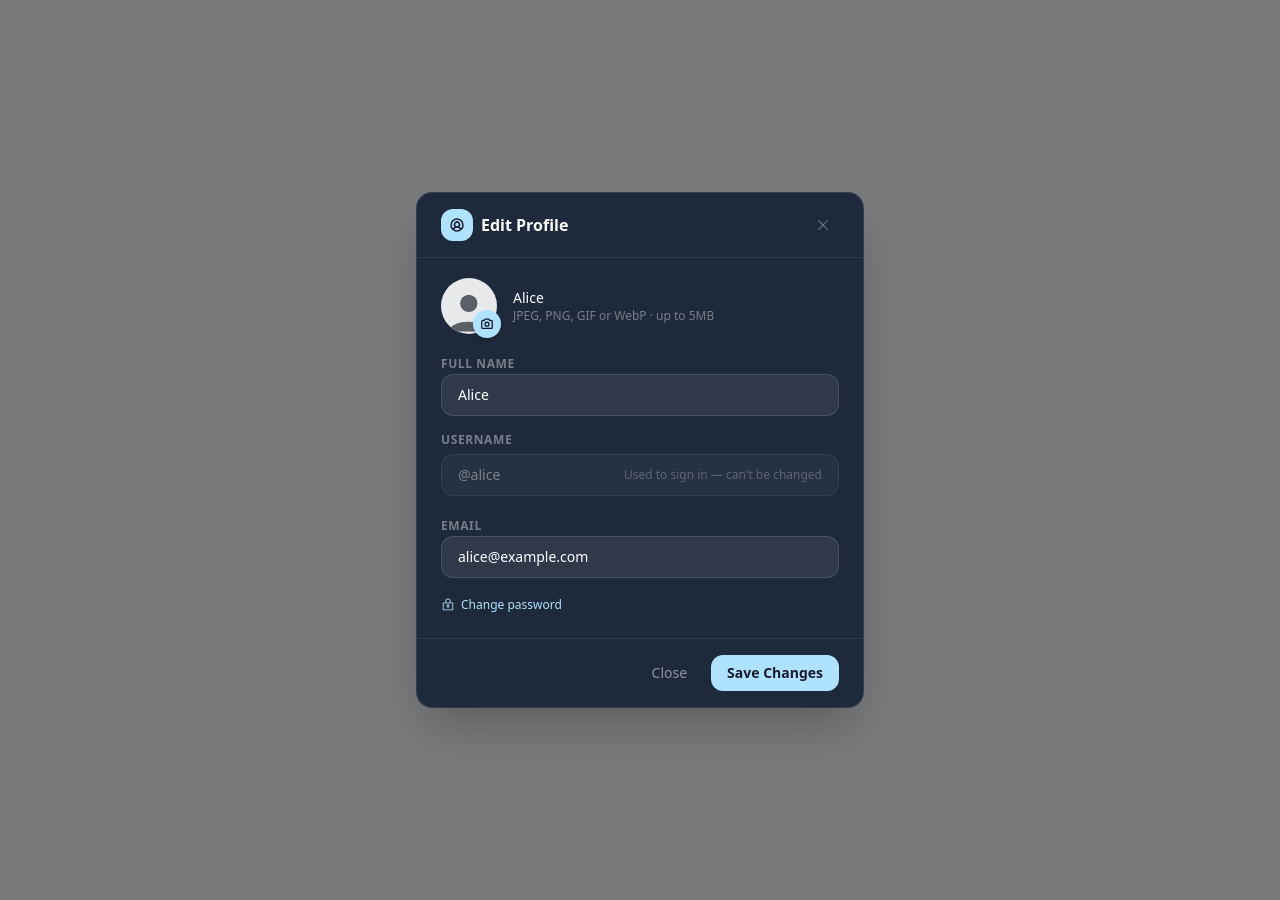
Test: password change › requires the current password and a matching confirmation
This screenshot has width=1280, height=900.
Click the button "Change password". click: (501, 605)
box: top-left (441, 597), bottom-right (562, 613)
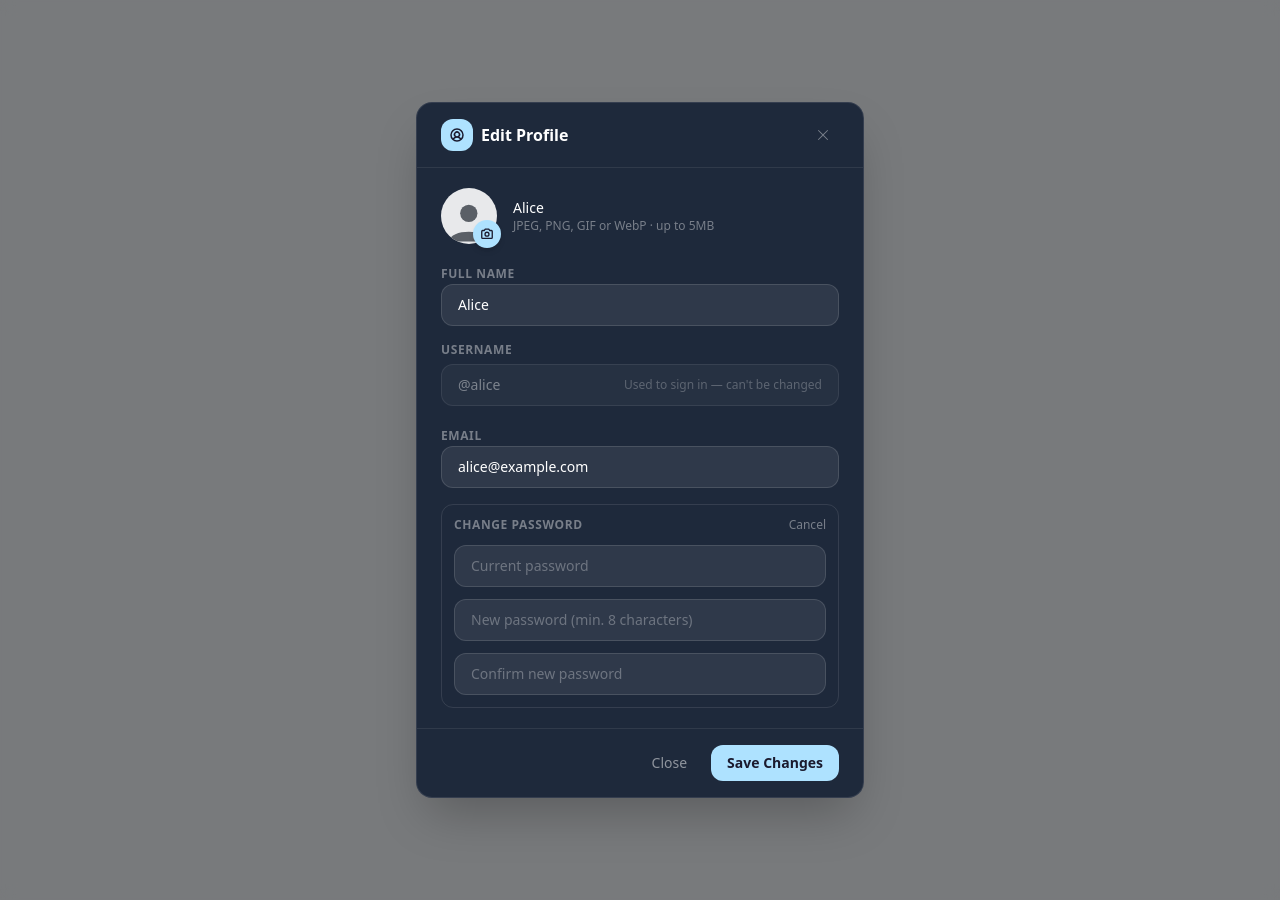
Type "newpassword1" into the password field labelled "New password". click: (640, 620)
box: top-left (454, 599), bottom-right (826, 641)
Type "newpassword1" into the password field labelled "Confirm new password". click: (640, 674)
box: top-left (454, 653), bottom-right (826, 695)
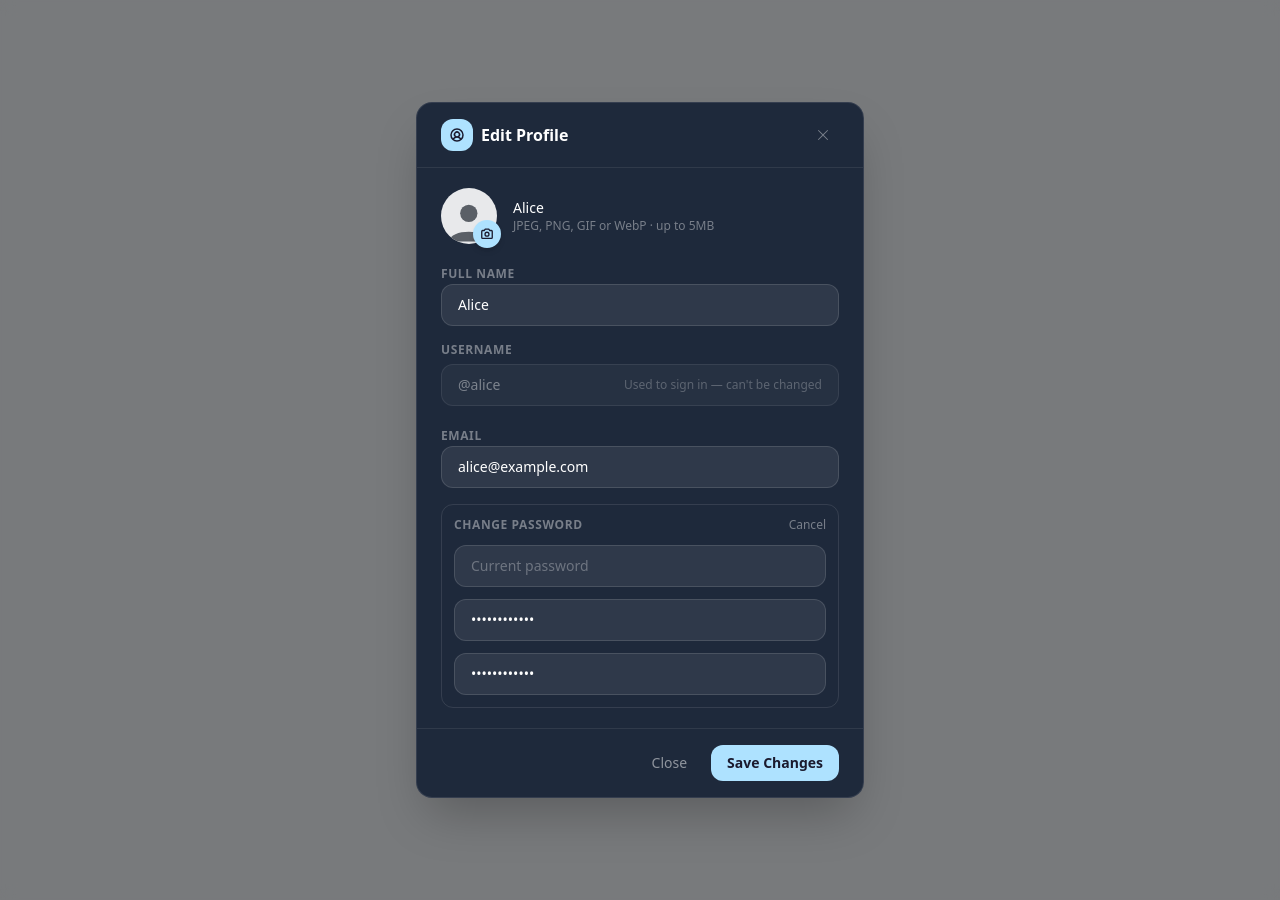
Click the button "Save Changes". click: (775, 763)
box: top-left (711, 745), bottom-right (839, 781)
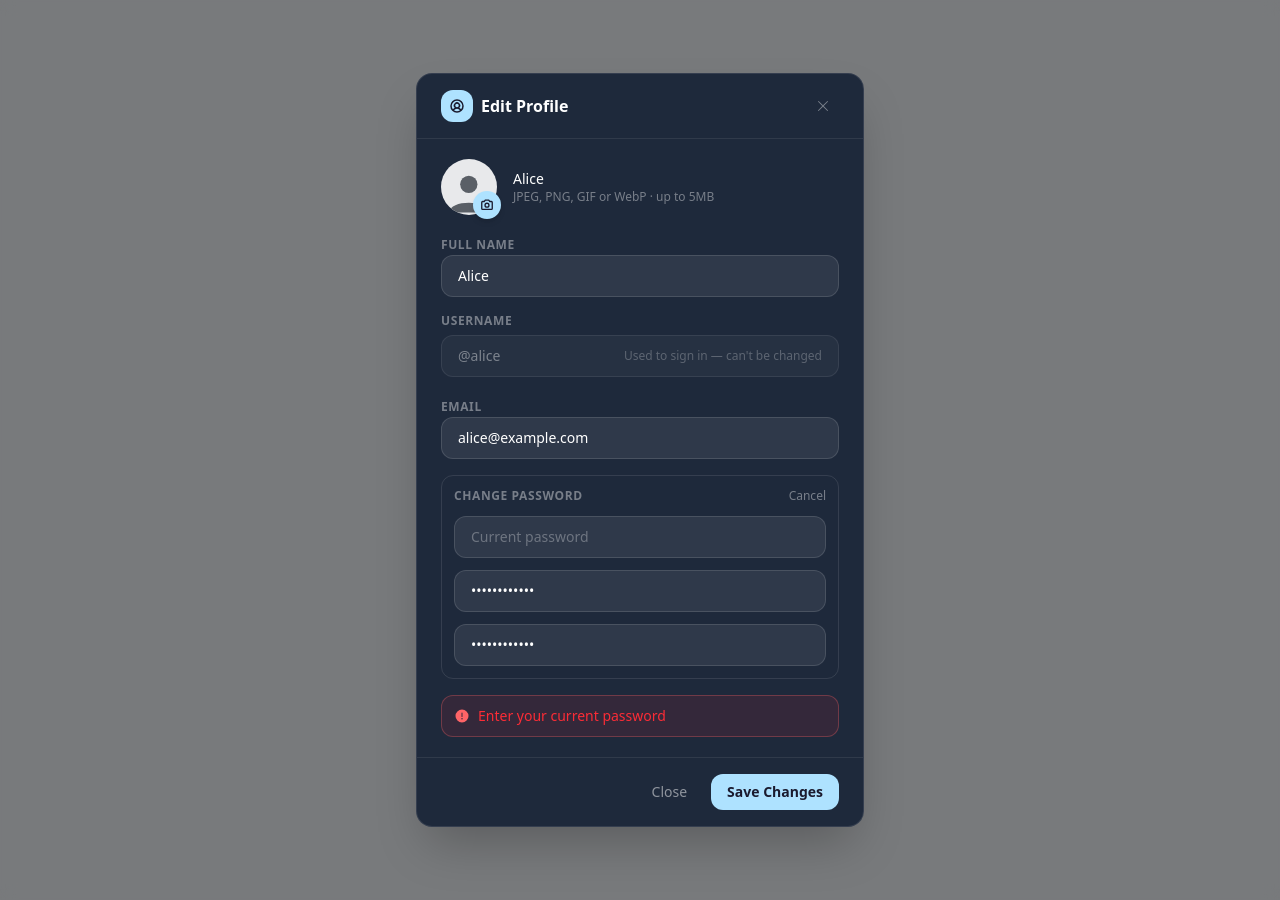
Check: the text "Enter your current password" is shown, box top-left (478, 706), bottom-right (666, 726)
Type "oldpassword1" into the password field labelled "Current password". click: (640, 537)
box: top-left (454, 516), bottom-right (826, 558)
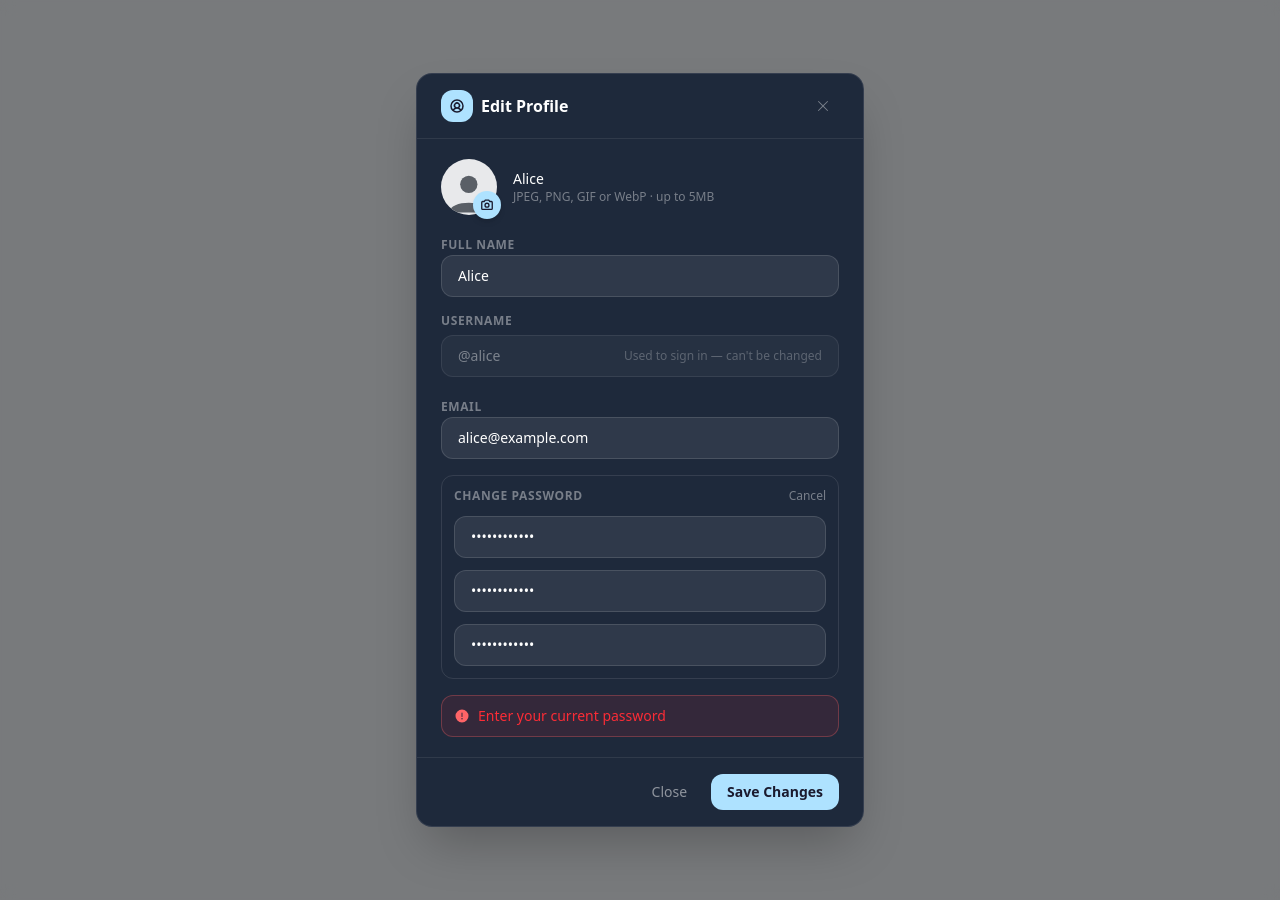
Type "mismatch1" into the password field named "Confirm new password". click: (640, 645)
box: top-left (454, 624), bottom-right (826, 666)
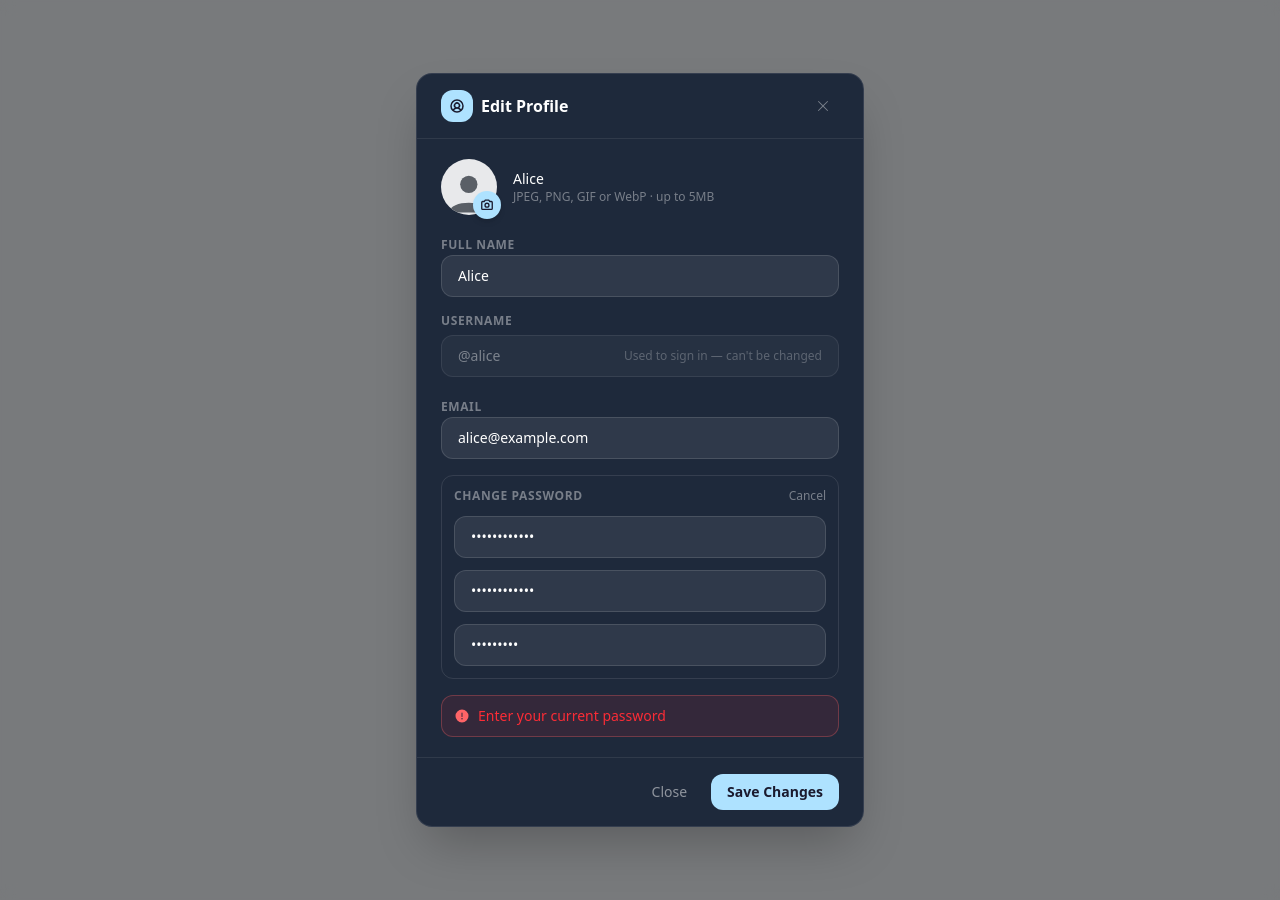
Click the button "Save Changes". click: (775, 792)
box: top-left (711, 774), bottom-right (839, 810)
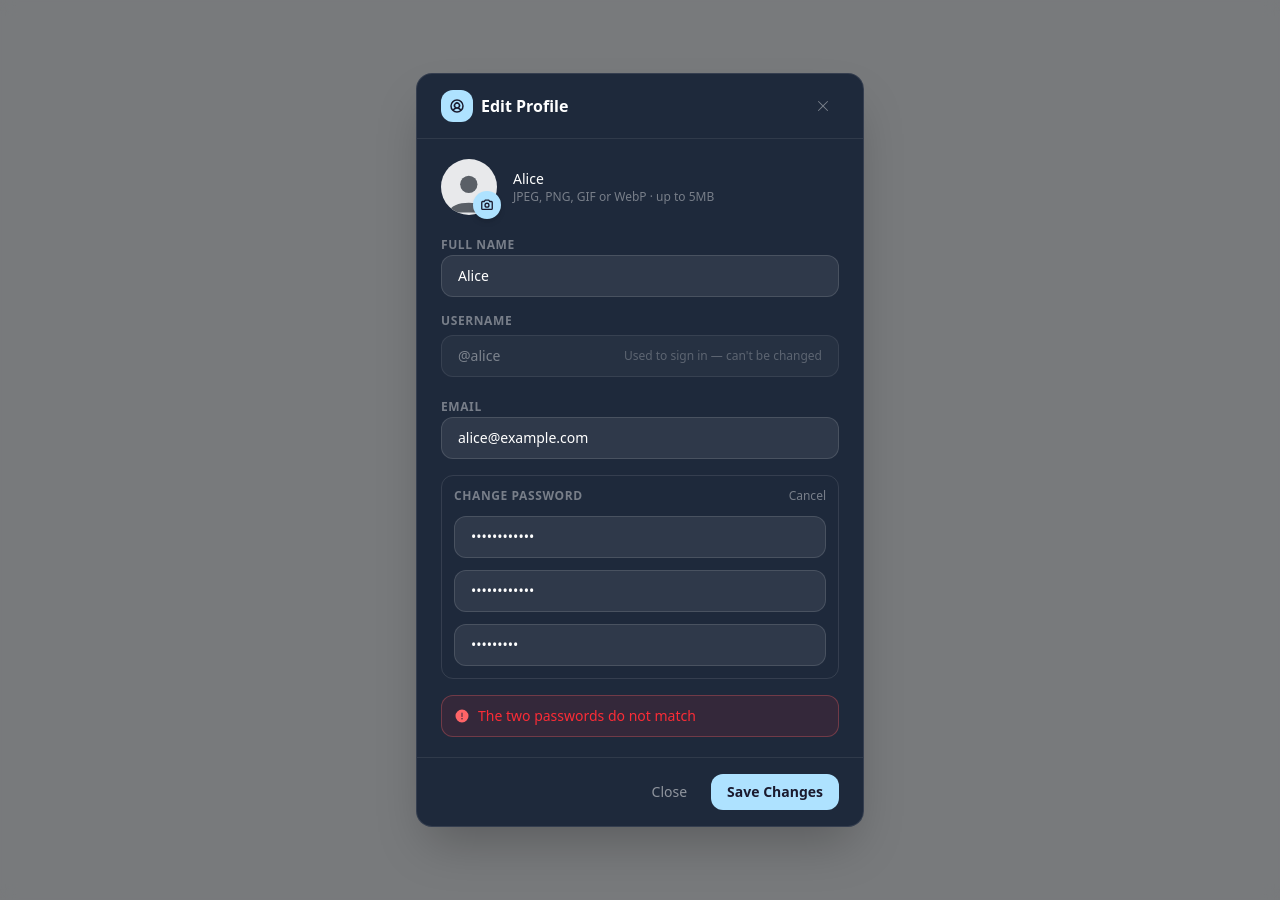
Check: the text "The two passwords do not match" is shown, box top-left (478, 706), bottom-right (696, 726)
